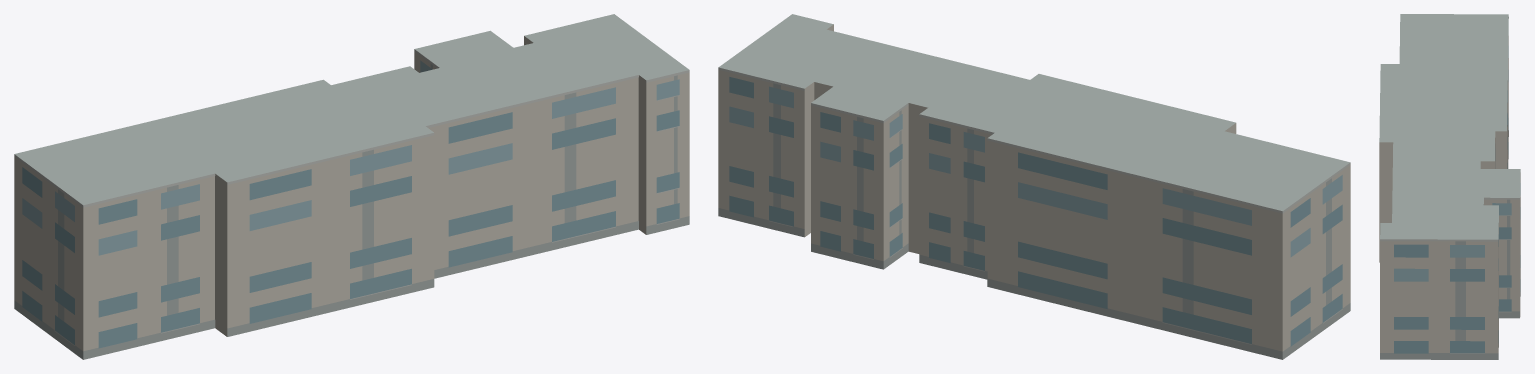
The model's file is residential-f9ad9245-18cb-4754-a3ca-4b723a682f28.glb.
3 renders of one model, left to right at view 1: azimuth 30°, elevation 25°; view 2: azimuth 150°, elevation 25°; view 3: azimuth 270°, elevation 25°, orthographic. The views are drawn at different scales.
Parts seen in each view (by area): view 1: residential-f9ad9245-18cb-4754-a3ca-4b723a682f28.tmp; view 2: residential-f9ad9245-18cb-4754-a3ca-4b723a682f28.tmp; view 3: residential-f9ad9245-18cb-4754-a3ca-4b723a682f28.tmp.
Part boxes in pixels (x1=…): residential-f9ad9245-18cb-4754-a3ca-4b723a682f28.tmp: x1=14, y1=14, x2=689, y2=359; residential-f9ad9245-18cb-4754-a3ca-4b723a682f28.tmp: x1=718, y1=14, x2=1350, y2=359; residential-f9ad9245-18cb-4754-a3ca-4b723a682f28.tmp: x1=1379, y1=14, x2=1520, y2=359.
Size of the model in its own units: 61.34 by 15.25 by 16.22.
